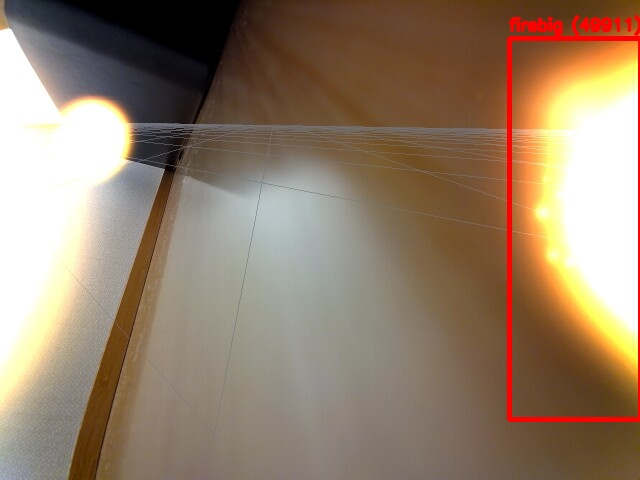firebig: (509, 38, 640, 419)
